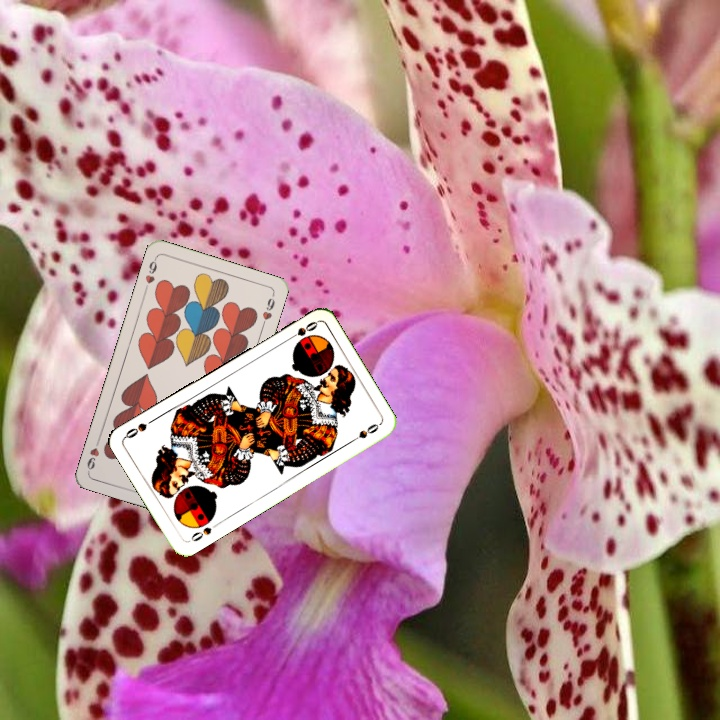H9: (141, 254, 160, 293)
SO: (283, 317, 320, 344), (185, 523, 214, 545)
